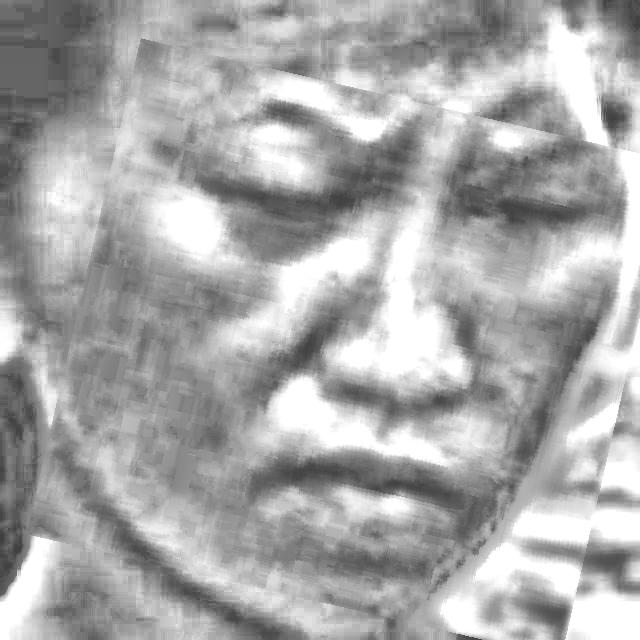angry: (51, 65, 640, 629)
